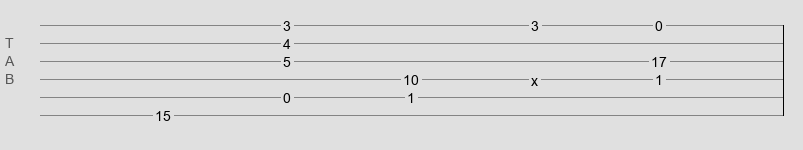0: (283, 90, 291, 100), (655, 18, 663, 28)
1: (407, 90, 415, 100), (655, 72, 663, 82)
10: (403, 72, 419, 82)
15: (155, 108, 171, 118)
17: (651, 54, 667, 64)
3: (283, 18, 291, 28), (531, 18, 539, 28)
4: (283, 36, 291, 46)
5: (283, 54, 291, 64)
x: (531, 73, 538, 81)
